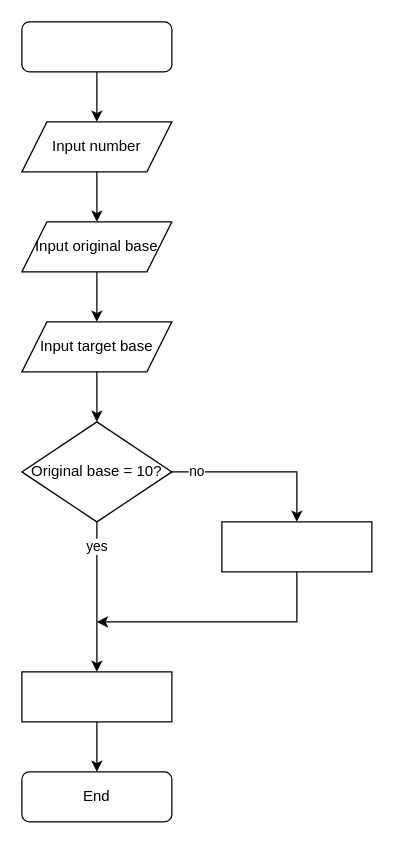
The diagram is 394 pixels wide and 844 high, and some of its shapes have lost their labels. The shapes that lost their labels are listed below. From the top down, each one's centre as x and y in pixels, then its label:
At point (96, 46): "Start".
At point (296, 546): "Convert num to base10".
At point (96, 696): "Convert num to base target".
